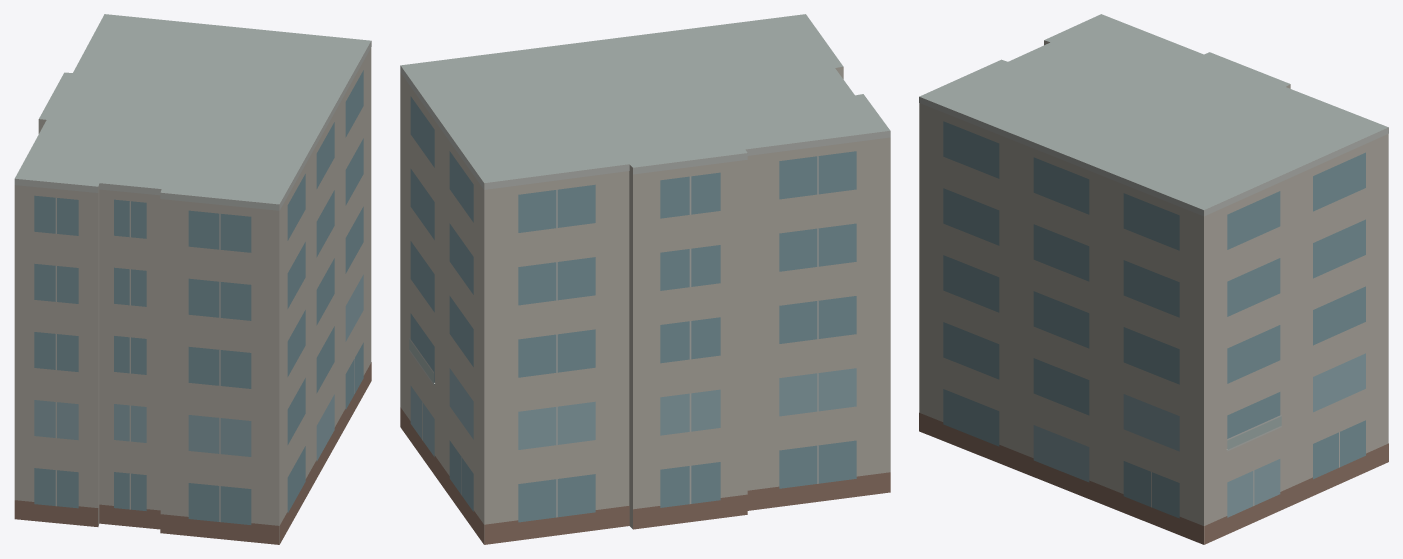
The model's file is survey-upis-32881483.glb.
3 views of the same model, side by side, from view 1: azimuth 30°, elevation 25°; view 2: azimuth 150°, elevation 25°; view 3: azimuth 270°, elevation 25° (orthographic). The views are drawn at different scales.
Parts seen in each view (by area): view 1: survey-upis-32881483.tmp; view 2: survey-upis-32881483.tmp; view 3: survey-upis-32881483.tmp.
Part boxes in pixels (x1,y1,x2,y2): survey-upis-32881483.tmp: (14, 14, 371, 544); survey-upis-32881483.tmp: (400, 14, 890, 544); survey-upis-32881483.tmp: (919, 14, 1388, 544).
Bounding box in the file's own units: 16.47 × 13.09 × 16.66.
